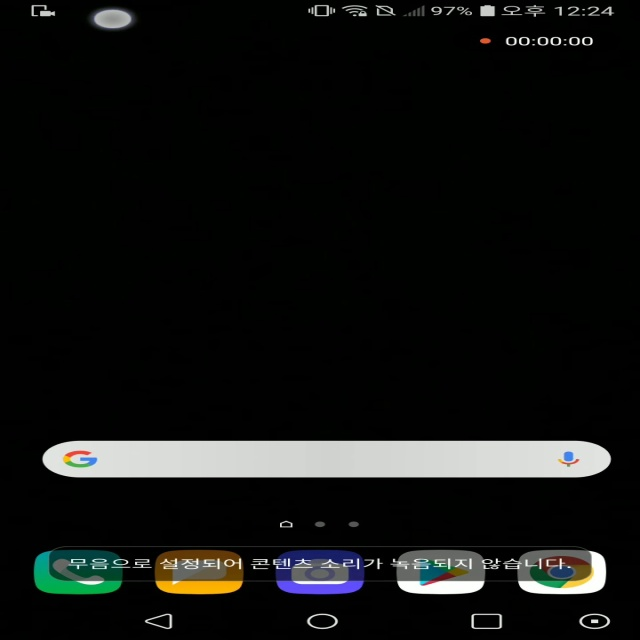Cursor: (92, 8, 136, 31)
